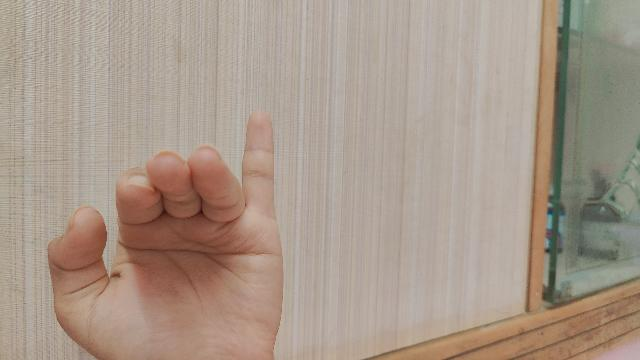Hamsapaksha: (44, 111, 282, 360)
